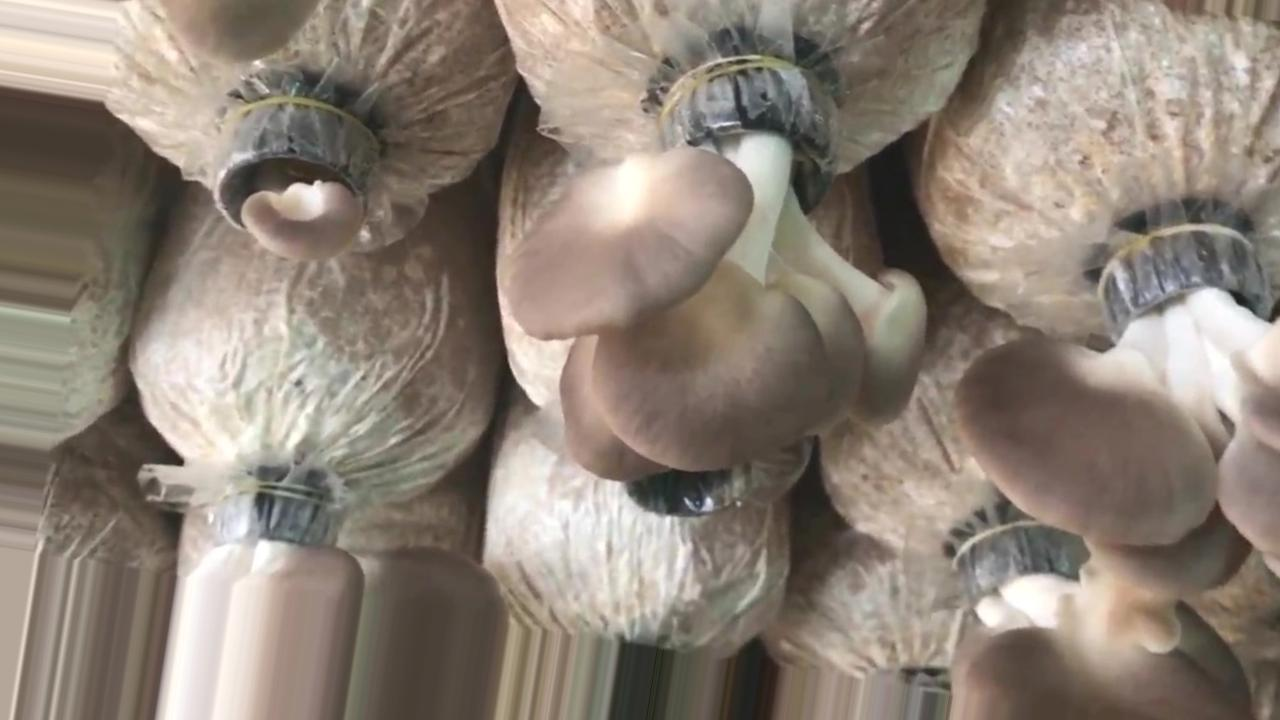nam: (514, 69, 927, 479), (958, 227, 1279, 591), (160, 495, 503, 719), (951, 530, 1250, 711), (216, 89, 380, 257)
